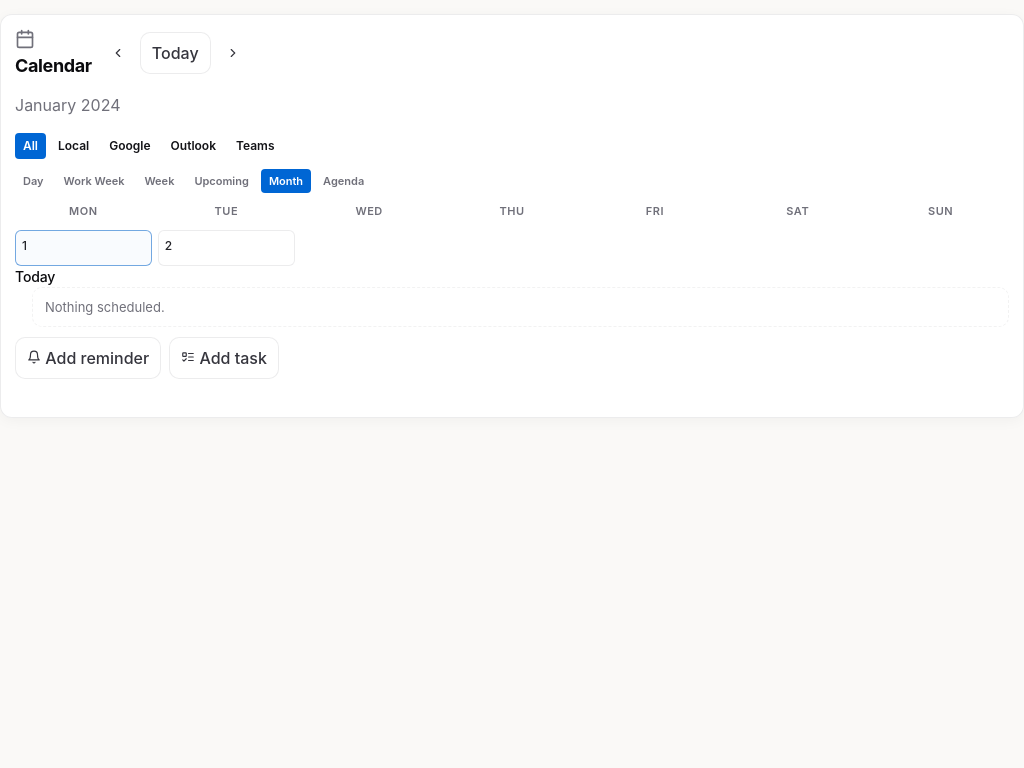
Scenario: CalendarPanel › task form opens from Add task
This screenshot has width=1024, height=768.
Click the button "Add task" at coordinates (224, 358), box [169,337,279,379]
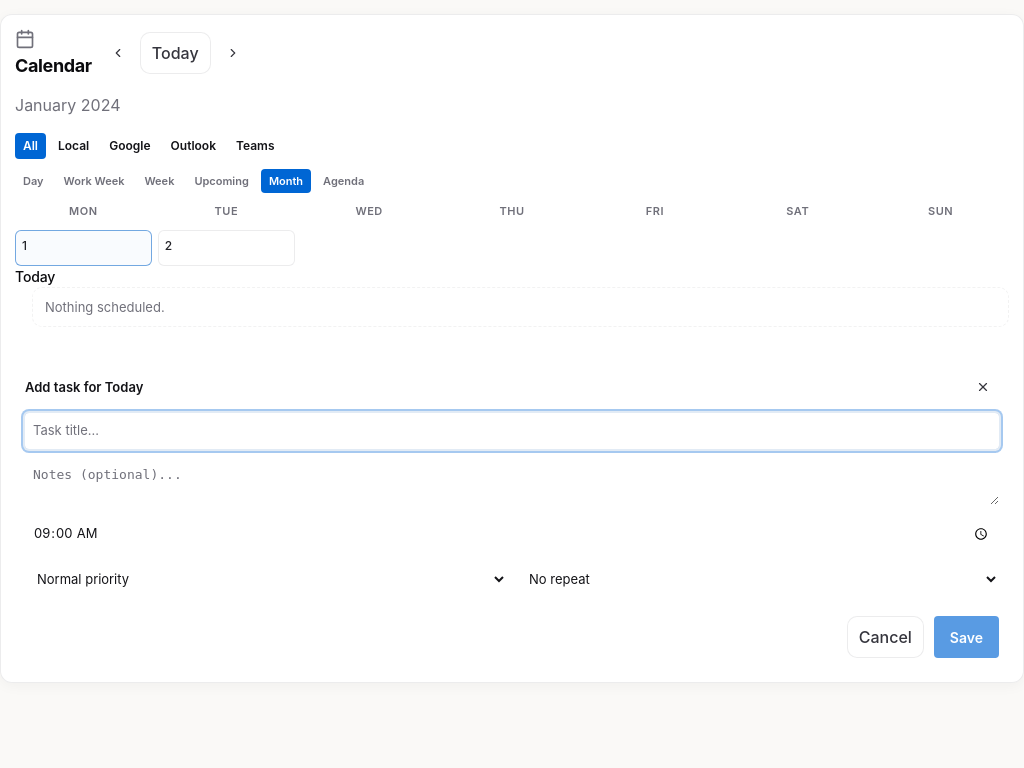
Result: the text "Add task for Today" is shown at [25,378,143,397]
